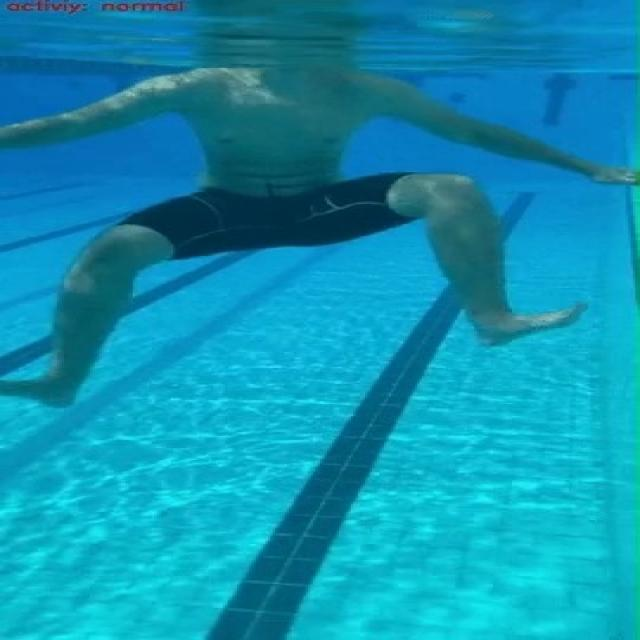Drowning: (0, 68, 640, 408)
